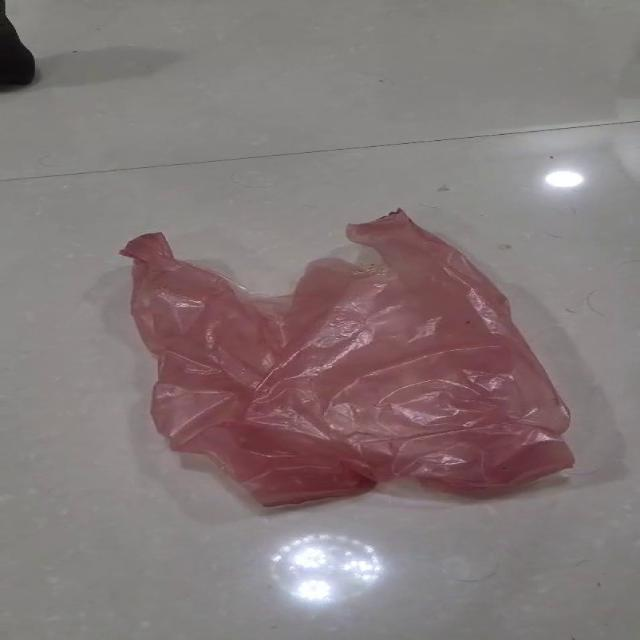plastic: (118, 206, 576, 508)
